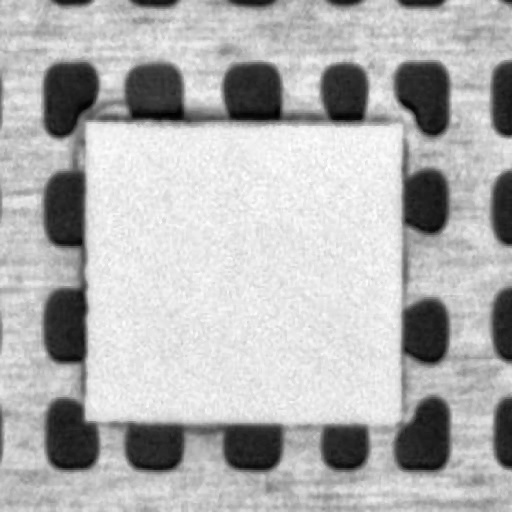DIE_CRACK: (180, 92, 512, 94)
